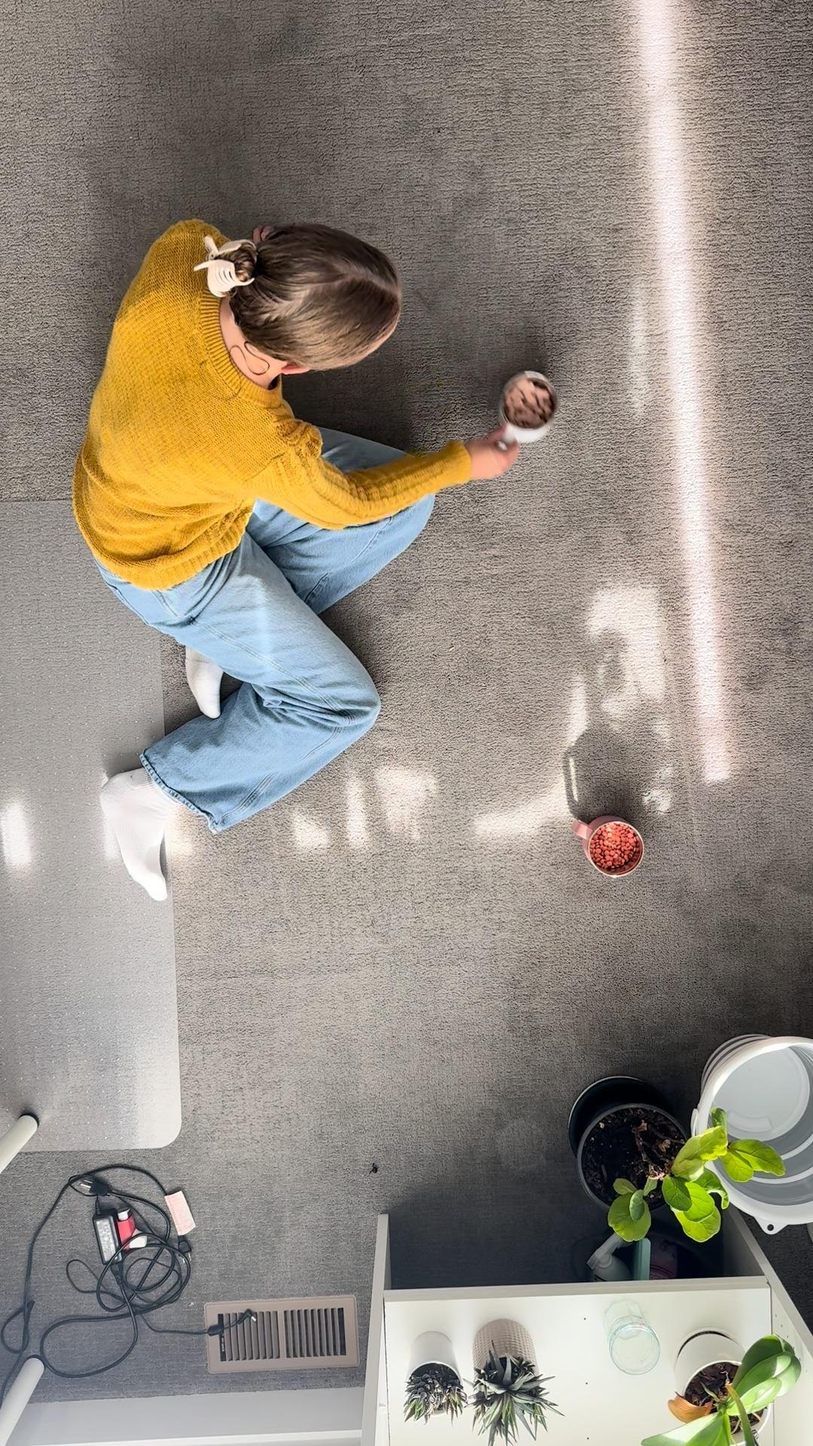IBC: (565, 808, 652, 887), (497, 359, 561, 458)
